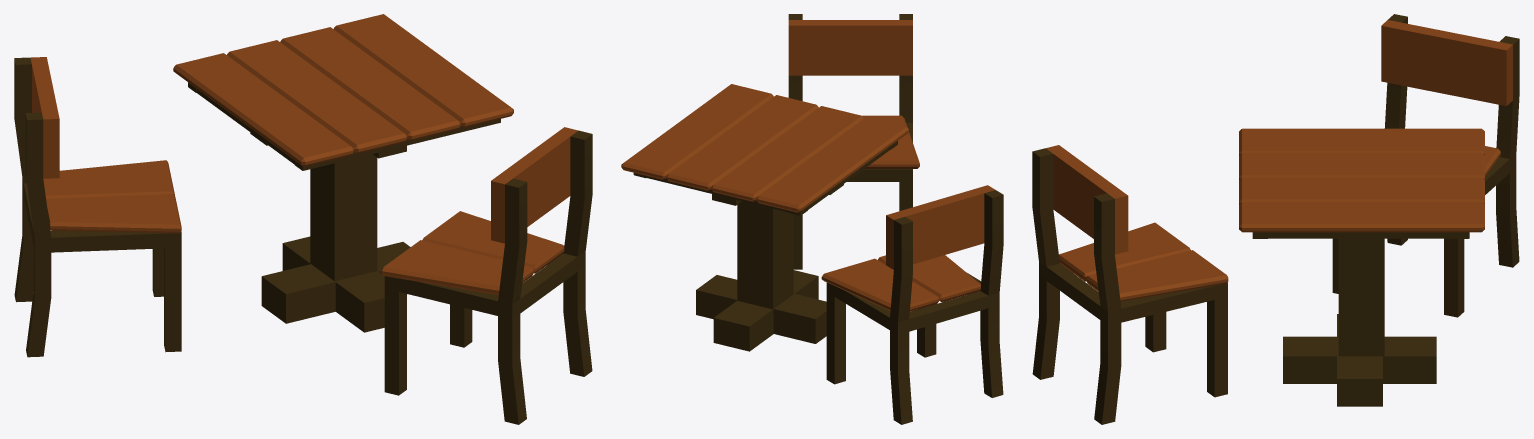
The model's file is Sto i stolice.FBX.
The picture shows the model from 3 angles, left to right: view 1: azimuth 30°, elevation 25°; view 2: azimuth 150°, elevation 25°; view 3: azimuth 270°, elevation 25°; orthographic projection. The views are drawn at different scales.
Visible parts, largest first — view 1: Box1553, Box1560, Box1557, Box1559, Box1558, Box1586, Box1577, Box1579, Box1551, Box1588, Box1552, Box1578 (+17 smaller); view 2: Box1577, Box1553, Box1560, Box1558, Box1557, Box1559, Box1587, Box1551, Box1552, Box1588, Box1586, Box1584 (+15 smaller); view 3: Box1587, Box1557, Box1558, Box1559, Box1560, Box1553, Box1552, Box1577, Box1578, Box1579, Box1570, Box1576 (+13 smaller).
Part boxes in pixels (<box>): Box1553: <box>310,154,377,281</box>; Box1560: <box>173,53,354,166</box>; Box1557: <box>333,14,513,127</box>; Box1559: <box>227,40,407,153</box>; Box1558: <box>280,27,460,140</box>; Box1586: <box>46,194,181,233</box>; Box1577: <box>491,127,578,243</box>; Box1579: <box>382,240,533,295</box>; Box1551: <box>261,242,410,323</box>; Box1588: <box>43,160,174,198</box>; Box1552: <box>282,236,384,332</box>; Box1578: <box>422,211,564,273</box>; Box1577: <box>788,20,912,75</box>; Box1553: <box>737,201,793,334</box>; Box1560: <box>756,117,908,212</box>; Box1558: <box>666,95,818,190</box>; Box1557: <box>621,84,773,179</box>; Box1559: <box>711,106,863,201</box>; Box1587: <box>886,185,995,269</box>; Box1551: <box>696,275,826,343</box>; Box1552: <box>713,270,818,351</box>; Box1588: <box>821,258,939,311</box>; Box1586: <box>878,255,980,302</box>; Box1584: <box>890,318,912,424</box>; Box1587: <box>1381,20,1512,105</box>; Box1557: <box>1239,202,1484,232</box>; Box1558: <box>1239,177,1484,204</box>; Box1559: <box>1239,153,1484,179</box>; Box1560: <box>1239,128,1484,155</box>; Box1553: <box>1338,238,1384,380</box>; Box1552: <box>1283,336,1436,383</box>; Box1577: <box>1046,145,1128,254</box>; Box1578: <box>1086,250,1228,301</box>; Box1579: <box>1059,222,1190,281</box>; Box1570: <box>1094,306,1121,424</box>; Box1576: <box>1032,148,1059,266</box>.
Bounding box in the file's own units: 145 × 80 × 158.
